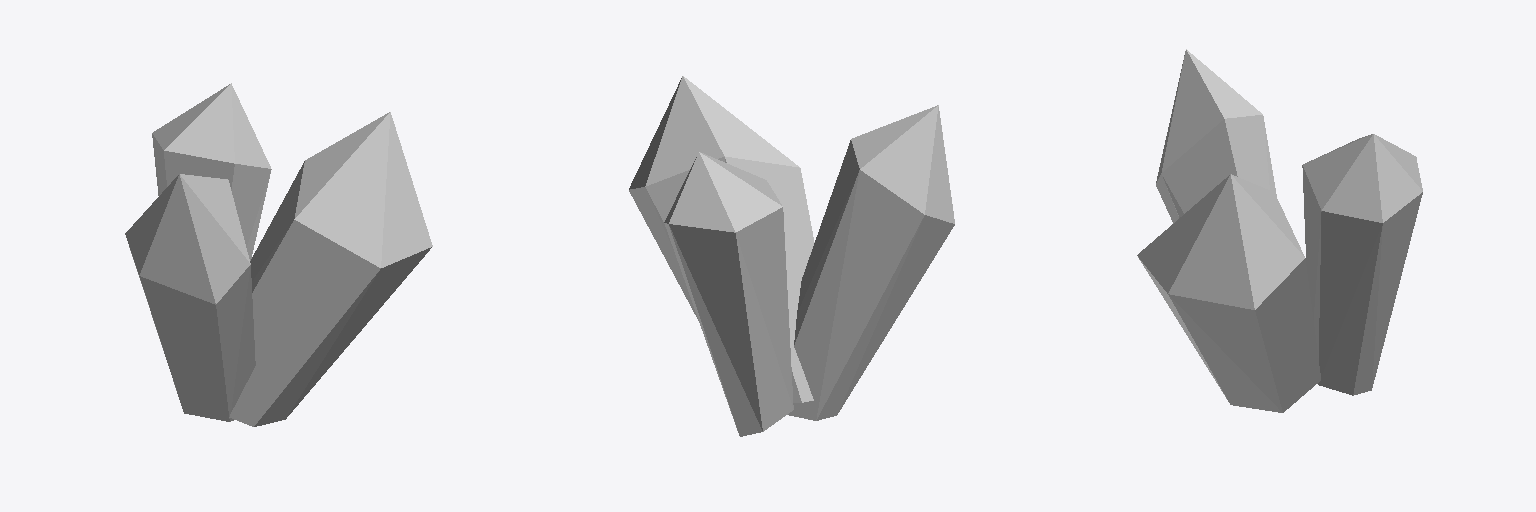
File: crystal_1_004.obj
3 renders of one model, left to right at view 1: azimuth 30°, elevation 25°; view 2: azimuth 150°, elevation 25°; view 3: azimuth 270°, elevation 25°, orthographic.
Visible parts, largest first — view 1: crystal_8_Cylinder.010; view 2: crystal_8_Cylinder.010; view 3: crystal_8_Cylinder.010.
Part boxes in pixels (x1,y1,x2,y2): crystal_8_Cylinder.010: (125, 83, 432, 426); crystal_8_Cylinder.010: (629, 76, 954, 436); crystal_8_Cylinder.010: (1137, 49, 1422, 412).
Bounding box in the file's own units: 0.6957 × 0.6419 × 0.5676.